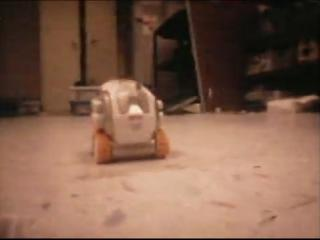cozmo: (89, 78, 170, 164)
